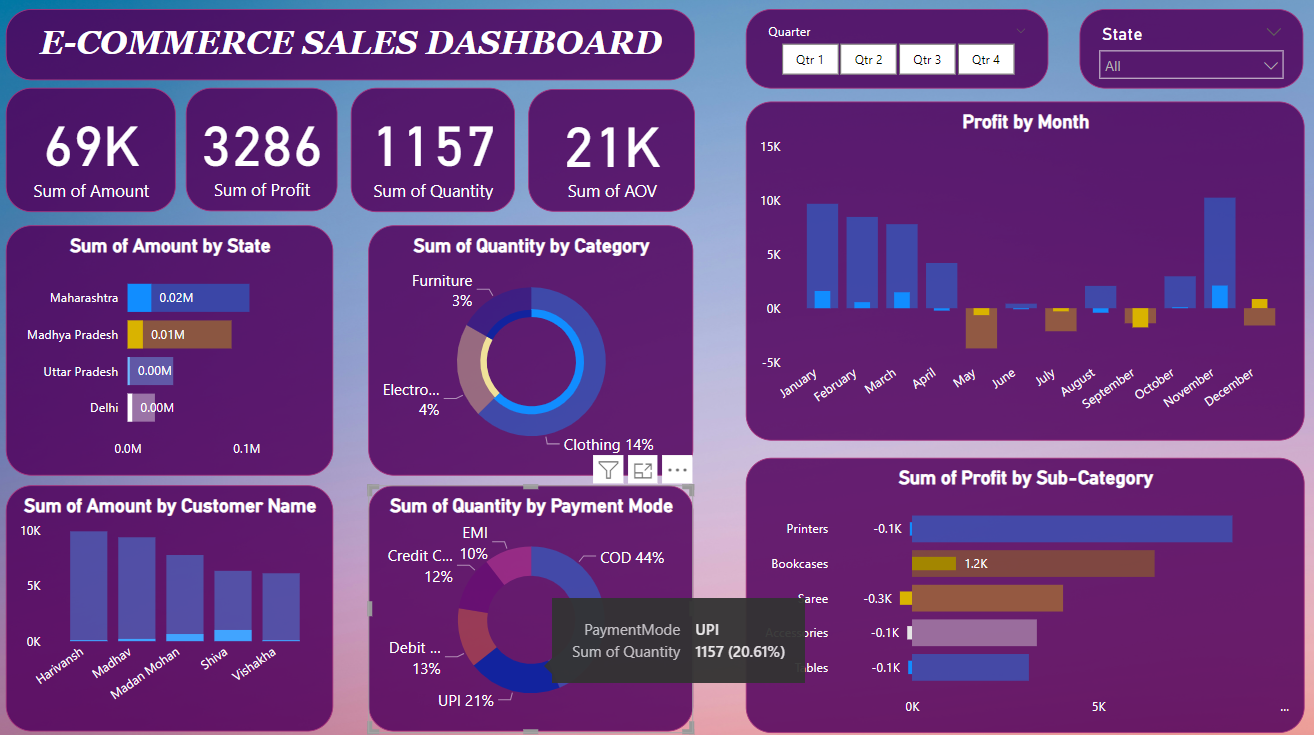

This screenshot's page, from the dashboard's own definition file:
{"tool":"powerbi","page":{"name":"Page 1","canvas":[1280,720],"ordinal":0},"visuals":[{"type":"textbox","box":[13.3,14.5,664.5,68.7],"z":0},{"type":"columnChart","title":"Profit by Month","fields":{"Category":["Orders.Order Date.Variation.Date Hierarchy.Month"],"Y":["Sum(Details.Profit)"]},"box":[727.2,103.7,539.1,326.8],"z":1000},{"type":"barChart","fields":{"Category":["Details.Sub-Category"],"Y":["Sum(Details.Profit)"]},"box":[726,445,539.1,266.5],"z":2000},{"type":"donutChart","fields":{"Category":["Details.Category"],"Y":["Sum(Details.Quantity)"]},"box":[363,223.1,313.6,241.2],"z":3000},{"type":"donutChart","title":"Sum of Quantity by Payment Mode","fields":{"Y":["Sum(Details.Quantity)"],"Category":["Details.PaymentMode"]},"box":[362.5,473.9,313.6,238.6],"z":4000},{"type":"card","fields":{"Values":["Sum(Details.Amount)"]},"box":[13,91,164,120],"z":5000},{"type":"card","fields":{"Values":["Sum(Details.Quantity)"]},"box":[346,90,158,120],"z":6000},{"type":"card","fields":{"Values":["Sum(Details.Profit)"]},"box":[187,91,146,119],"z":7000},{"type":"card","fields":{"Values":["Sum(Details.AOV)"]},"box":[517,92,161,118],"z":8000},{"type":"barChart","fields":{"Category":["Orders.State"],"Y":["Sum(Details.Amount)"]},"box":[13.3,223.1,316,241.2],"z":9000},{"type":"columnChart","title":"Sum of Amount by Customer Name","fields":{"Category":["Orders.CustomerName"],"Y":["Sum(Details.Amount)"]},"box":[13.6,473.9,315.9,238.6],"z":10000},{"type":"slicer","fields":{"Values":["Orders.Order Date.Variation.Date Hierarchy.Quarter"]},"box":[727.2,14.5,291.9,77.2],"z":11000},{"type":"slicer","fields":{"Values":["Orders.State"]},"box":[1049.2,14.5,215.9,77.2],"z":12000}]}

Visuals, with their boxes in screenshot pixels (x1, y1, x2, y2), scaled from the page's 1280x720 canvas onto the 1314x735 screenshot:
textbox: (14, 15, 696, 85)
"Profit by Month" columnChart: (747, 106, 1300, 439)
barChart - Details.Sub-Category x Sum(Details.Profit): (745, 454, 1299, 726)
donutChart - Details.Category x Sum(Details.Quantity): (373, 228, 695, 474)
"Sum of Quantity by Payment Mode" donutChart: (372, 484, 694, 727)
card - Sum(Details.Amount): (13, 93, 182, 215)
card - Sum(Details.Quantity): (355, 92, 517, 214)
card - Sum(Details.Profit): (192, 93, 342, 214)
card - Sum(Details.AOV): (531, 94, 696, 214)
barChart - Orders.State x Sum(Details.Amount): (14, 228, 338, 474)
"Sum of Amount by Customer Name" columnChart: (14, 484, 338, 727)
slicer - Orders.Order Date.Variation.Date Hierarchy.Quarter: (747, 15, 1046, 94)
slicer - Orders.State: (1077, 15, 1299, 94)
